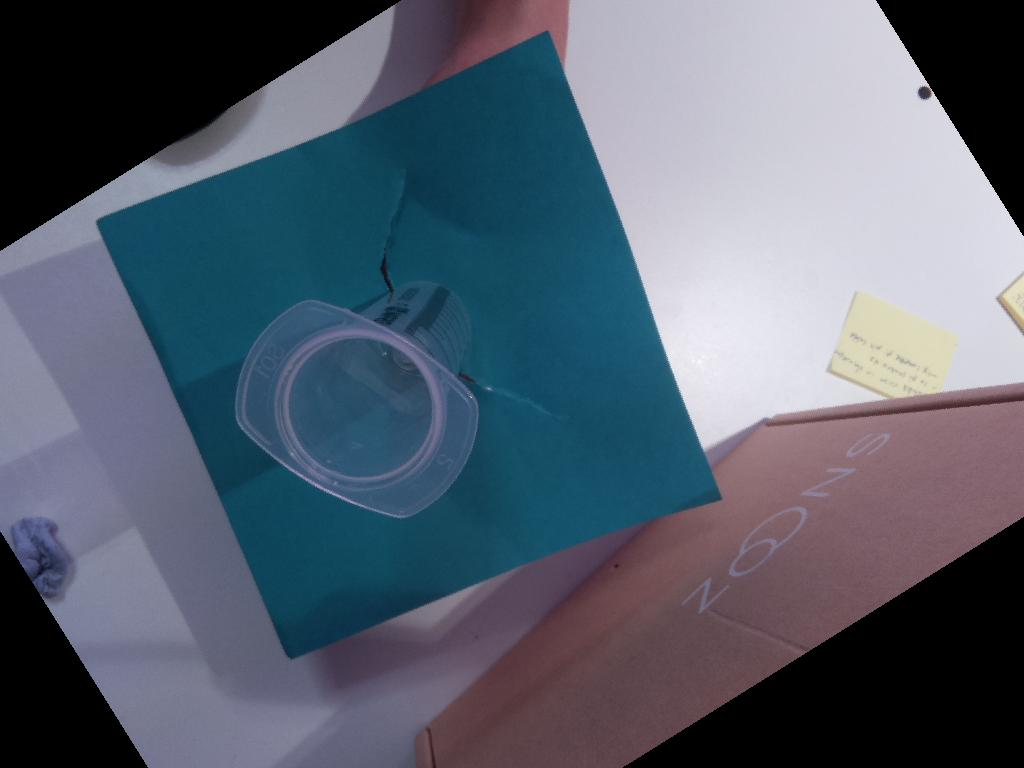clean: (224, 295, 481, 526)
